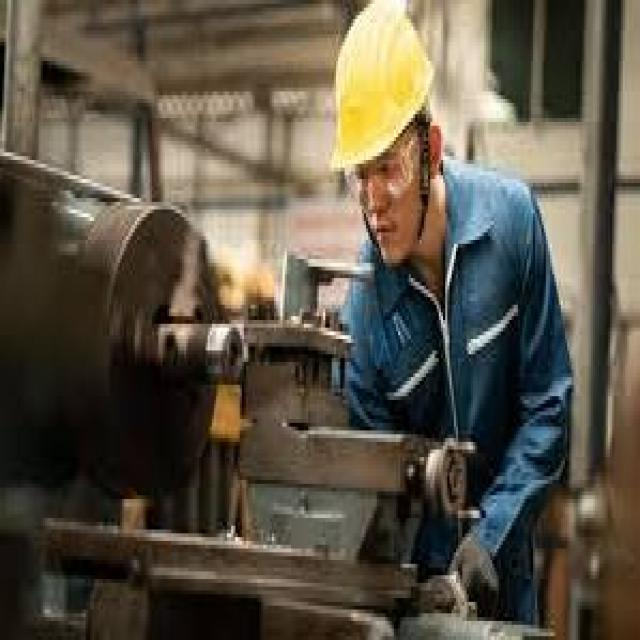Reflective-Jacket: (345, 172, 582, 548)
Safety-Helmet: (315, 4, 445, 194)
